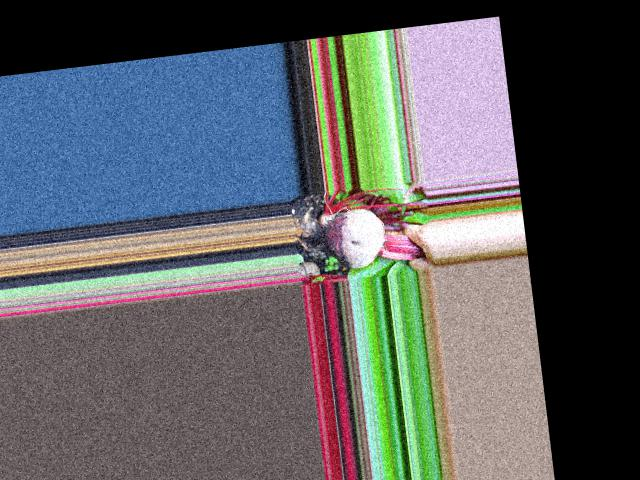beet: (291, 201, 426, 275)
